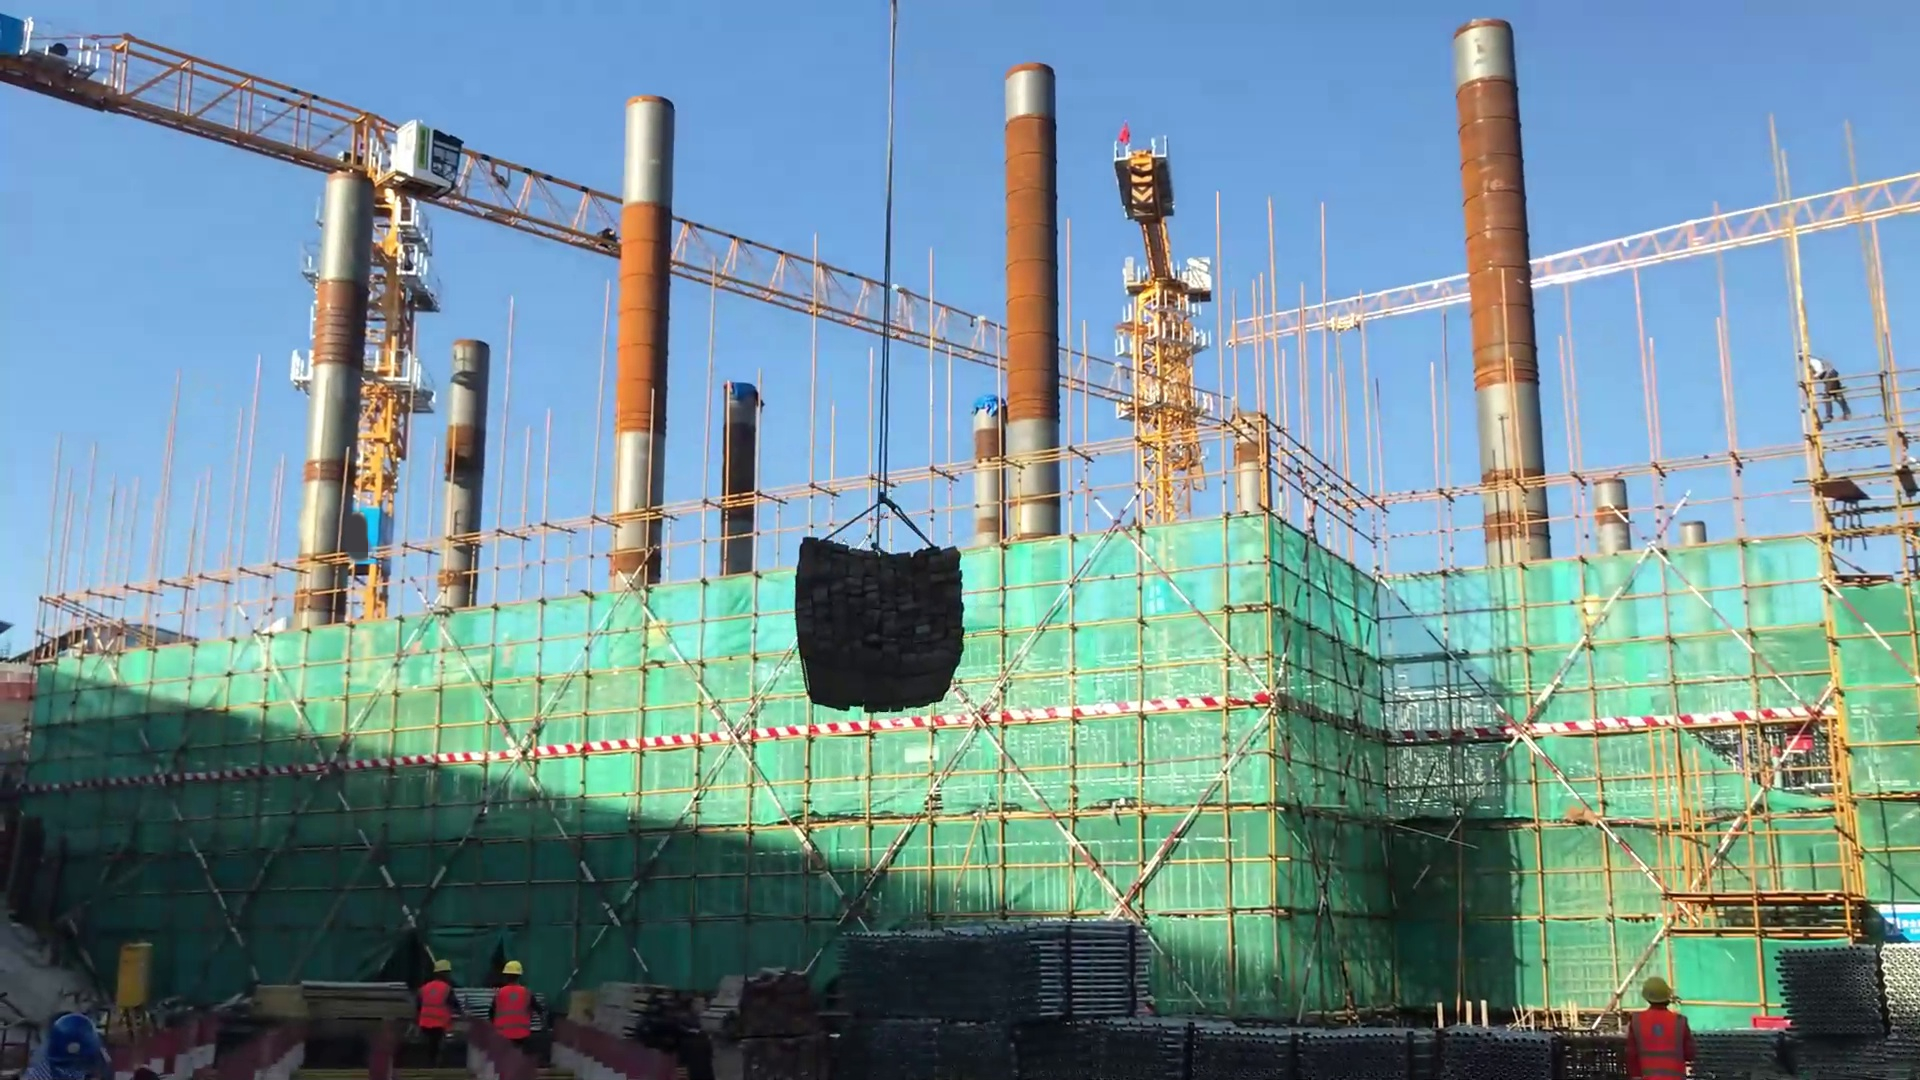helmet: (488, 963, 532, 993), (1643, 972, 1677, 1004), (425, 953, 452, 981)
person: (1614, 974, 1695, 1080), (488, 957, 538, 1071), (415, 955, 464, 1064), (1797, 352, 1854, 424)
scaffold: (826, 898, 1022, 1044), (1759, 923, 1918, 1052), (1007, 908, 1154, 1034)
vest: (420, 981, 461, 1050), (1631, 1012, 1684, 1057), (491, 987, 530, 1041)
wood: (781, 512, 984, 727)
